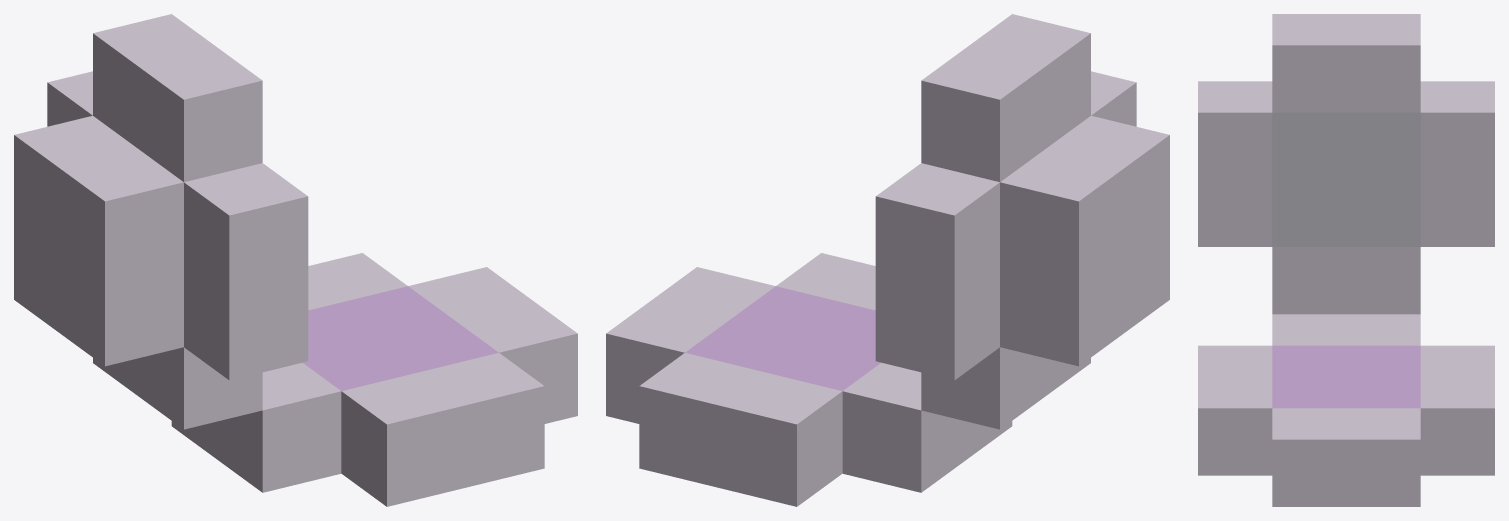
3 views of the same model, side by side, from view 1: azimuth 30°, elevation 25°; view 2: azimuth 150°, elevation 25°; view 3: azimuth 270°, elevation 25° (orthographic). The views are drawn at different scales.
Bounding box in the file's own units: 1 × 0.8333 × 0.6667.
